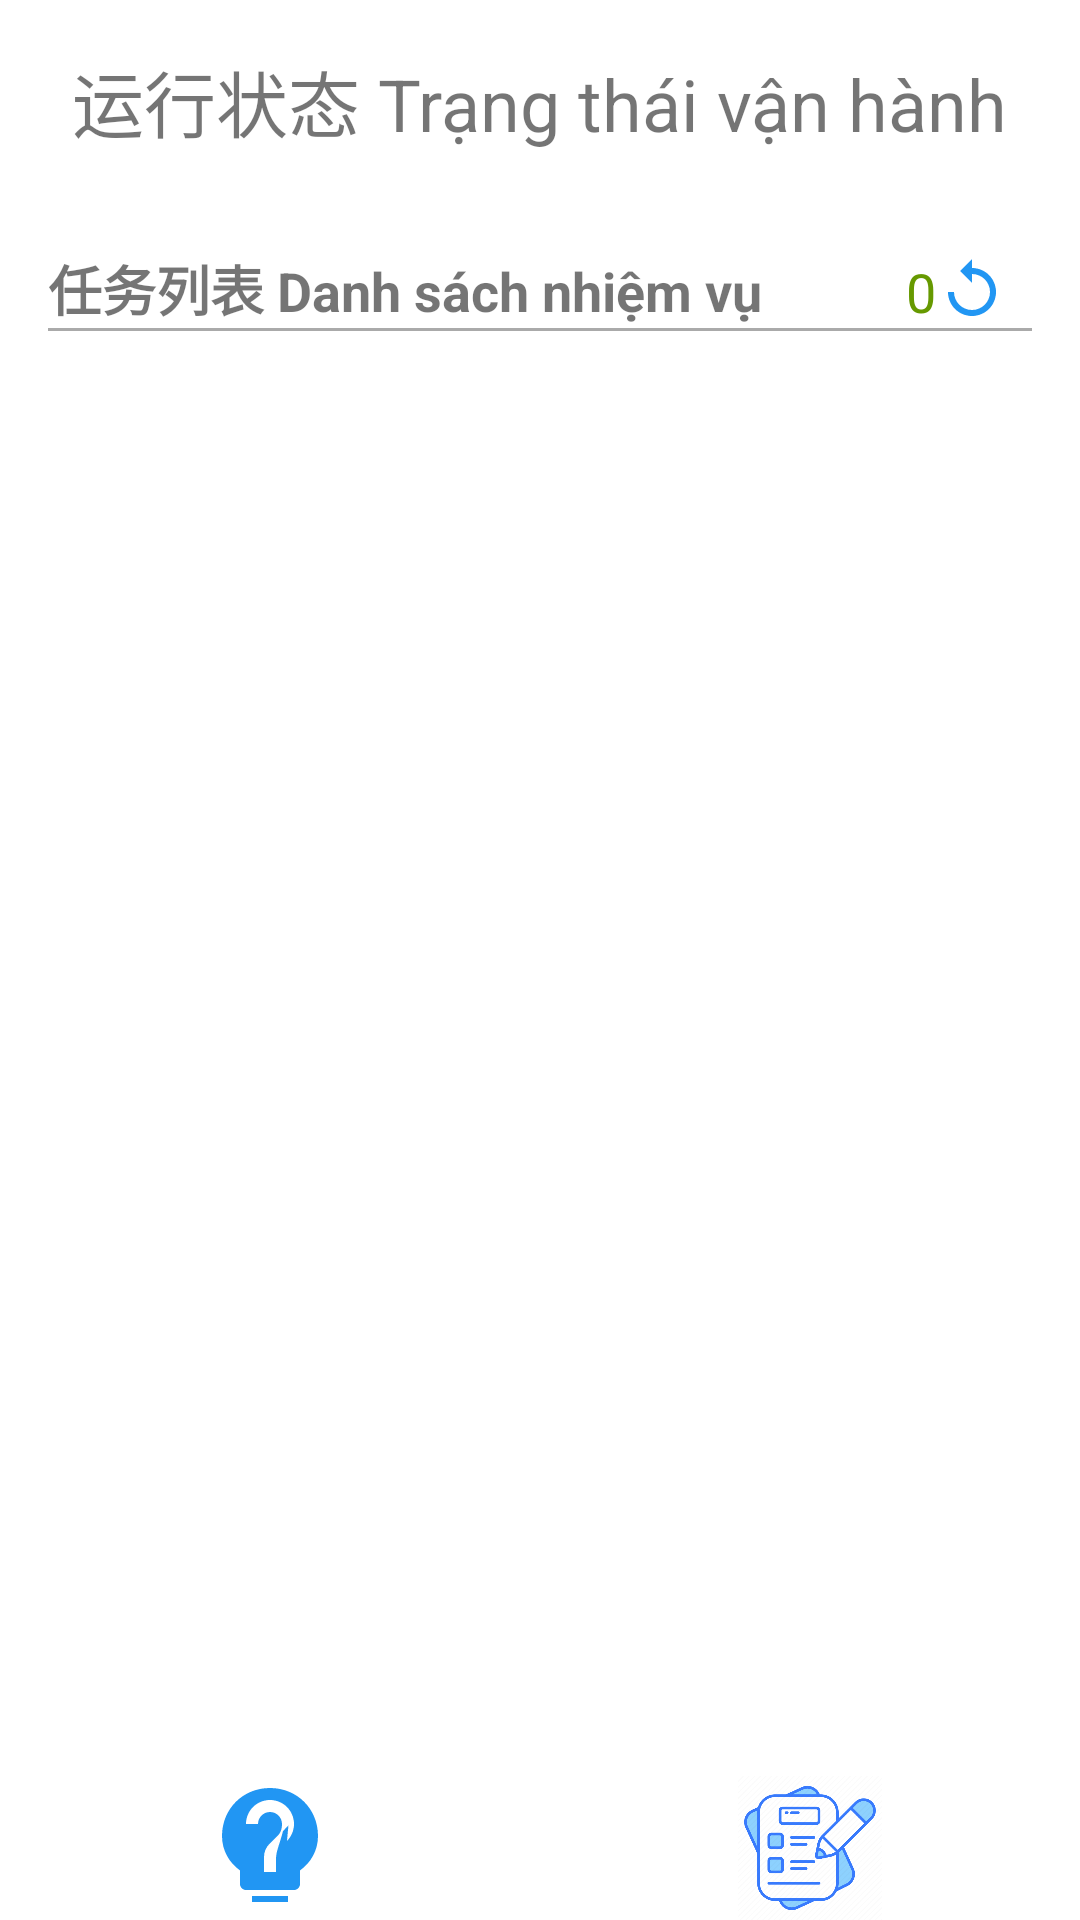

Named icons in this screenshot (1080×1920) and their centers, (x=x, y=y):
refresh: (x=972, y=287)
task: (x=810, y=1848)
